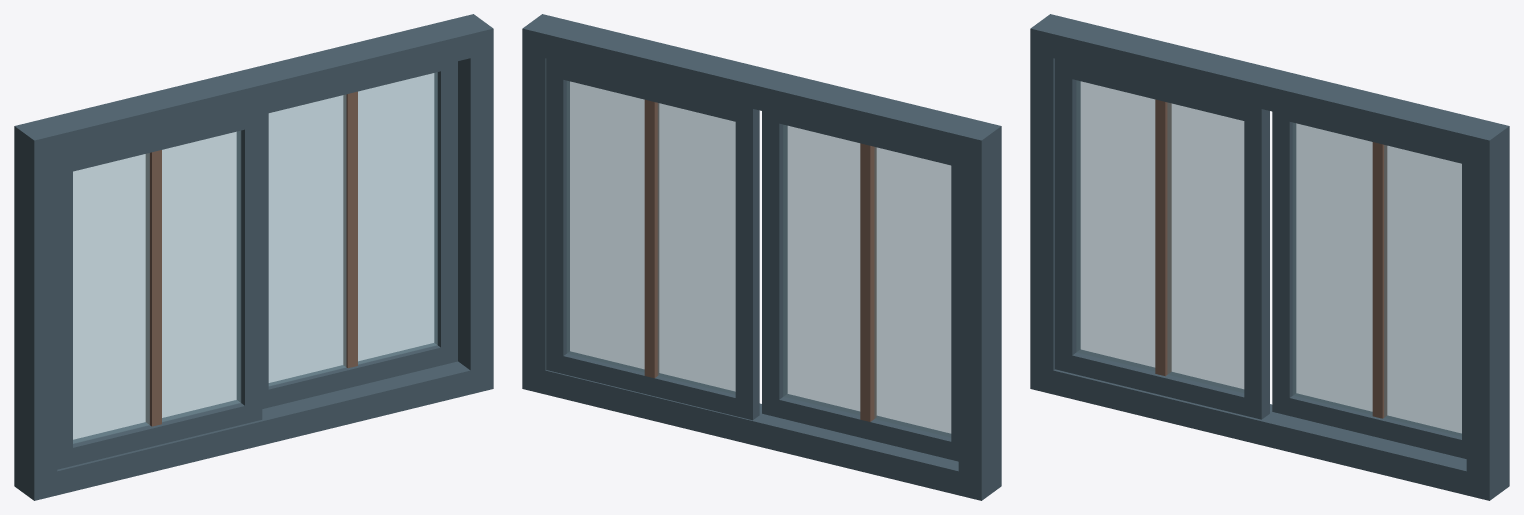
3 views of the same model, side by side, from view 1: azimuth 30°, elevation 25°; view 2: azimuth 150°, elevation 25°; view 3: azimuth 330°, elevation 25° (orthographic).
Parts seen in each view (by area): view 1: fixedGlass, movingGlass, outer-top, outer-left, outer-bottom, outer-right, sash-right, fixed-sash-right, sash-left, sash-bottom, sash-mid-vertical, fixed-sash-bottom (+4 smaller); view 2: fixedGlass, movingGlass, outer-top, outer-left, outer-bottom, outer-right, sash-right, fixed-sash-left, fixed-sash-right, fixed-sash-bottom, sash-mid-vertical, sash-bottom (+4 smaller); view 3: fixedGlass, movingGlass, outer-top, outer-right, outer-bottom, outer-left, sash-right, sash-left, fixed-sash-left, sash-bottom, sash-mid-vertical, fixed-sash-bottom (+4 smaller).
Boxes of the visible parts, x1,y1,x2,y2 form: fixedGlass: (268,72,437,386); movingGlass: (73,130,240,443); outer-top: (14,19,470,164); outer-left: (14,120,57,500); outer-bottom: (14,361,493,500); outer-right: (451,14,493,394); sash-right: (236,109,262,423); fixed-sash-right: (434,67,457,364); sash-left: (57,155,72,469); sash-bottom: (57,400,244,467); sash-mid-vertical: (145,150,161,426); fixed-sash-bottom: (262,343,457,408); fixedGlass: (567,81,735,394); movingGlass: (783,125,951,437); outer-top: (522,19,1001,164); outer-left: (958,120,1001,500); outer-bottom: (522,365,1001,500); outer-right: (522,14,564,394); sash-right: (762,111,787,417); fixed-sash-left: (735,104,759,420); fixed-sash-right: (546,58,569,373); fixed-sash-bottom: (546,351,759,419); sash-mid-vertical: (860,143,876,421); sash-bottom: (762,394,958,461); fixedGlass: (1293,122,1461,436); movingGlass: (1076,80,1244,392); outer-top: (1030,19,1509,164); outer-right: (1466,120,1509,500); outer-bottom: (1030,365,1509,500); outer-left: (1030,14,1072,394); sash-right: (1244,105,1269,419); sash-left: (1055,58,1080,372); fixed-sash-left: (1272,116,1295,411); sash-bottom: (1055,349,1269,418); sash-mid-vertical: (1155,99,1171,376); fixed-sash-bottom: (1272,393,1461,457).
Size of the model in its own units: 1.6 by 1.2 by 0.12.
